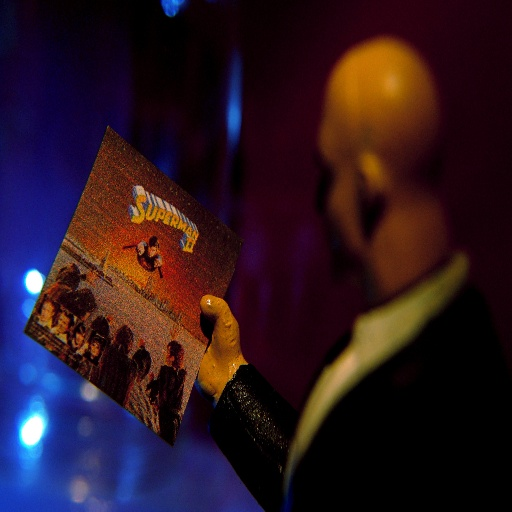hand: (191, 296, 253, 400)
